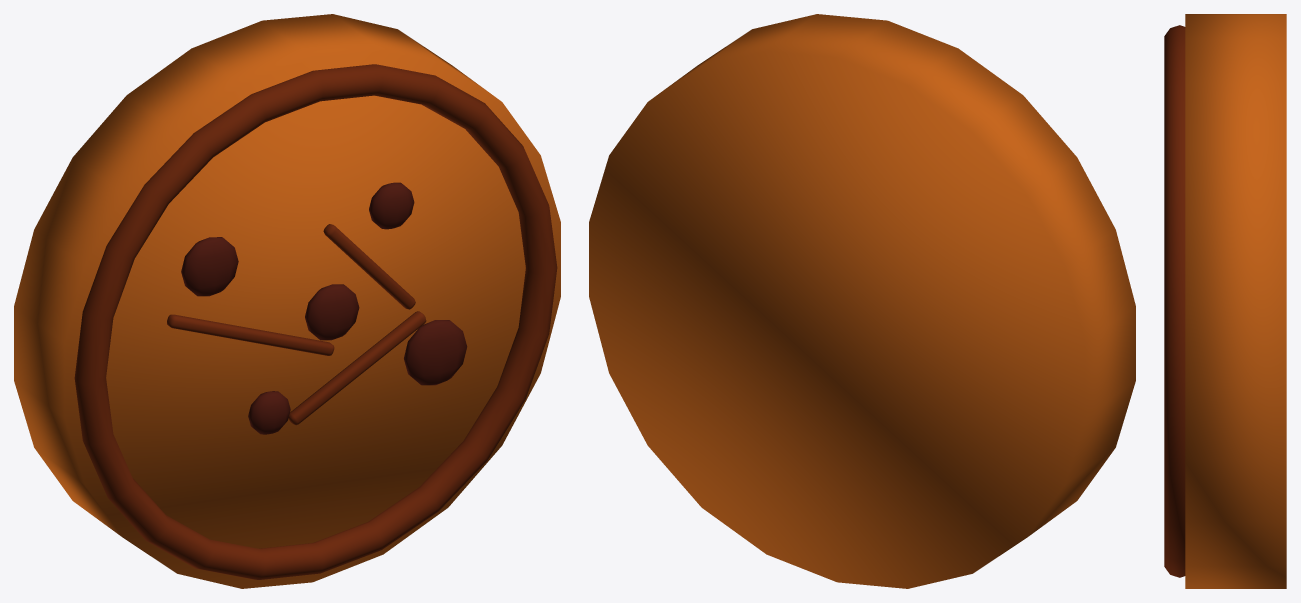
The model's file is cookie.glb.
3 views of the same model, side by side, from view 1: azimuth 30°, elevation 25°; view 2: azimuth 150°, elevation 25°; view 3: azimuth 270°, elevation 25° (orthographic).
Parts seen in each view (by area): view 1: cookie; view 2: cookie; view 3: cookie.
Part boxes in pixels (x1,y1,x2,y2): cookie: (14,14,560,588); cookie: (589,14,1135,588); cookie: (1164,14,1286,588).
Bounding box in the file's own units: 0.9898 × 1 × 0.2111.
Materials: 1 (1 with a texture image).
